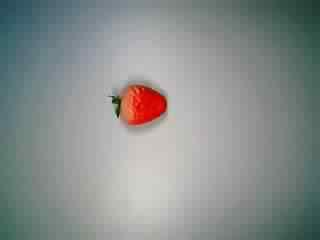strawberry: (100, 76, 168, 140)
